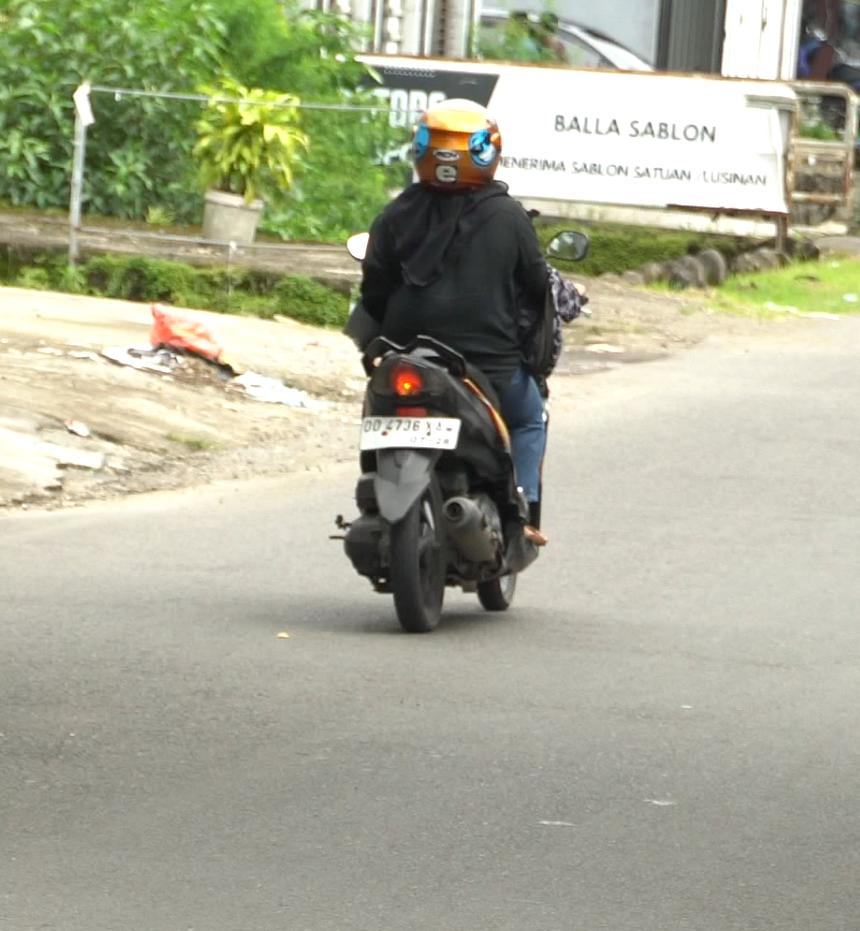number-plate: (356, 415, 461, 454)
